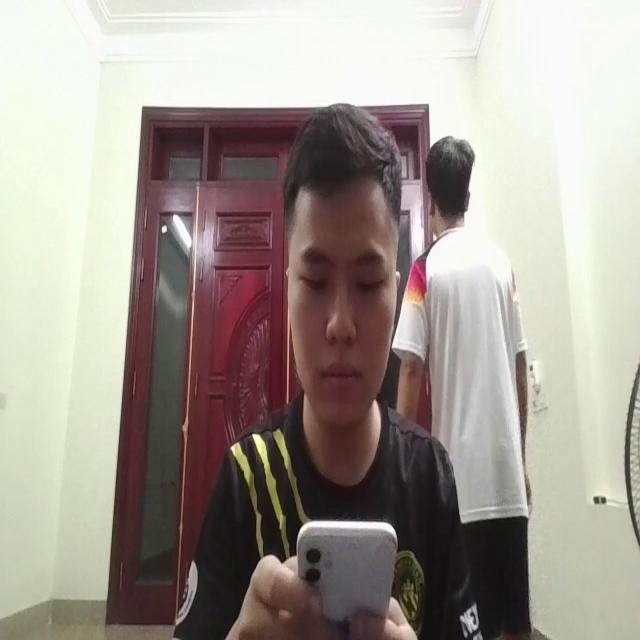extra_person: (397, 123, 535, 601)
phone: (279, 508, 405, 640)
student: (251, 88, 422, 498)
